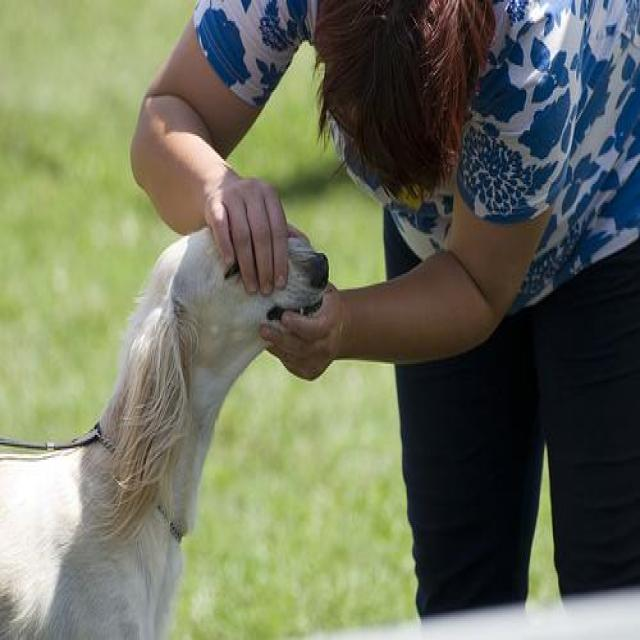saluki: (0, 224, 330, 638)
